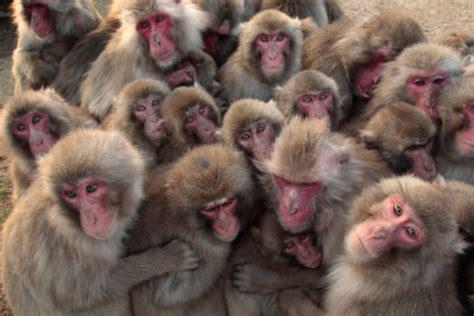monkey: (1, 131, 191, 316), (132, 146, 248, 316), (328, 178, 460, 316), (270, 120, 389, 264), (80, 1, 201, 116), (1, 93, 99, 199), (12, 1, 101, 96), (223, 9, 302, 104), (382, 39, 460, 119), (361, 103, 437, 180), (106, 78, 170, 147), (221, 100, 283, 170), (161, 88, 221, 147), (274, 70, 338, 121), (274, 224, 324, 273)
